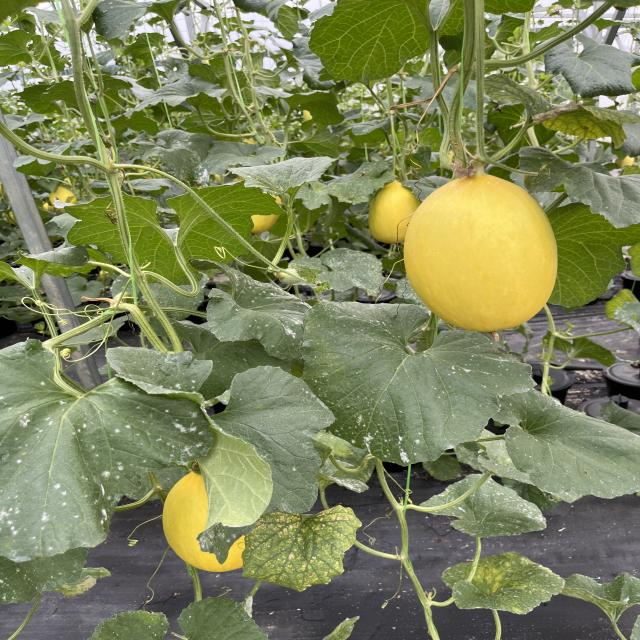CMV: (298, 0, 441, 80)
SLCV: (83, 594, 287, 640), (105, 339, 214, 405), (227, 149, 337, 203)
alternaria leaf blight: (487, 72, 640, 152), (242, 509, 355, 586), (447, 554, 567, 614), (557, 569, 640, 629)
downy mildew: (498, 382, 640, 513), (519, 144, 640, 223)
powdery mildew: (0, 339, 209, 563), (306, 301, 529, 457), (206, 263, 312, 368), (419, 474, 544, 534), (307, 157, 393, 206), (136, 130, 208, 175), (321, 247, 386, 296)
